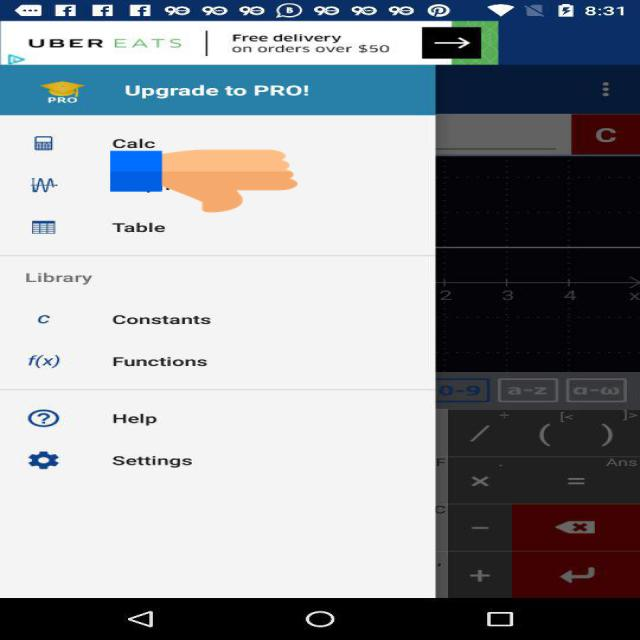obstruction: (110, 148, 298, 214)
